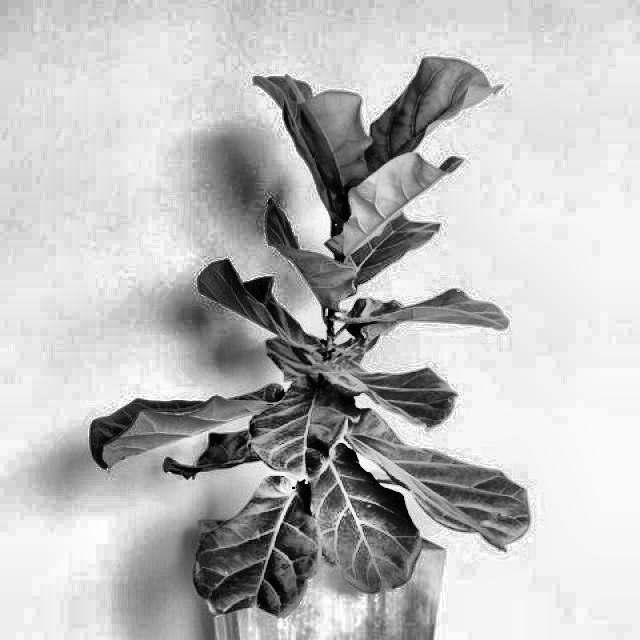plants: (70, 48, 542, 610)
